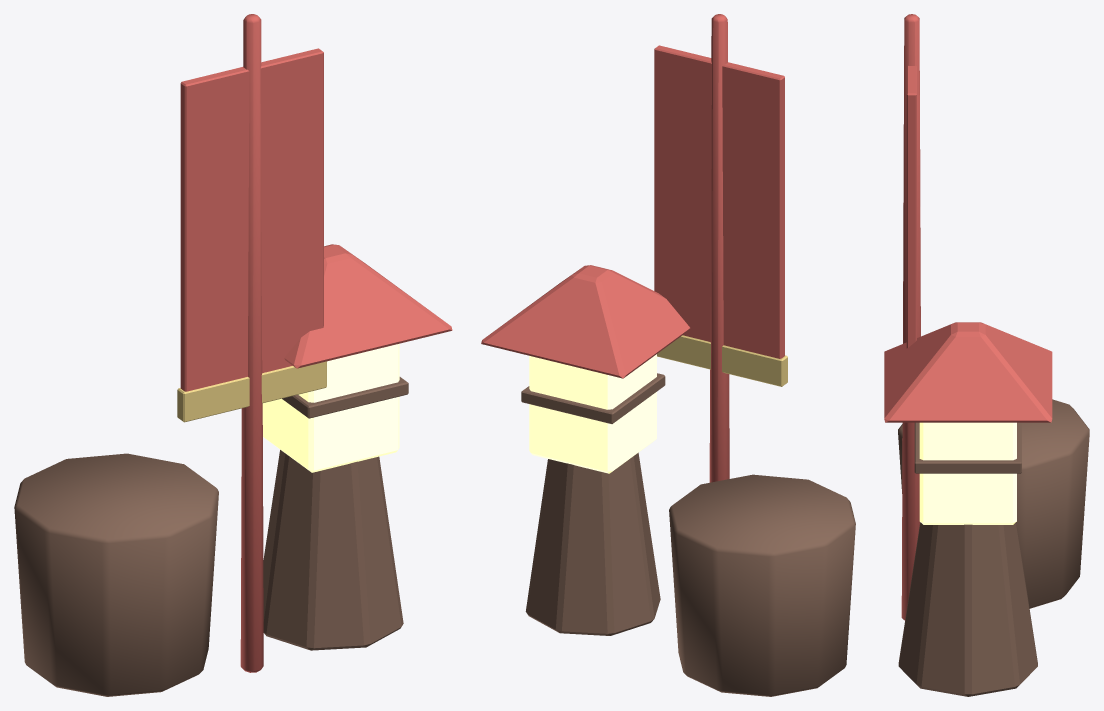
The model's file is w3_monsoon_cluster.glb.
The picture shows the model from 3 angles, left to right: view 1: azimuth 30°, elevation 25°; view 2: azimuth 150°, elevation 25°; view 3: azimuth 270°, elevation 25°; orthographic projection. The views are drawn at different scales.
Parts seen in each view (by area): view 1: LampBar_0.0, BannerPole, ShojiLamp, BannerTrim; view 2: LampBar_0.0, BannerPole, ShojiLamp, BannerTrim; view 3: LampBar_0.0, BannerPole, ShojiLamp.
Boxes of the visible parts, <box> form: LampBar_0.0: <box>14,377,408,696</box>; BannerPole: <box>180,14,452,672</box>; ShojiLamp: <box>262,343,399,472</box>; BannerTrim: <box>177,361,326,422</box>; LampBar_0.0: <box>521,373,855,696</box>; BannerPole: <box>481,14,784,482</box>; ShojiLamp: <box>529,354,656,473</box>; BannerTrim: <box>657,335,787,386</box>; LampBar_0.0: <box>898,399,1089,696</box>; BannerPole: <box>884,14,1052,620</box>; ShojiLamp: <box>919,422,1016,524</box>.
Bounding box in the file's own units: 1.52 × 2.6 × 0.8028.
